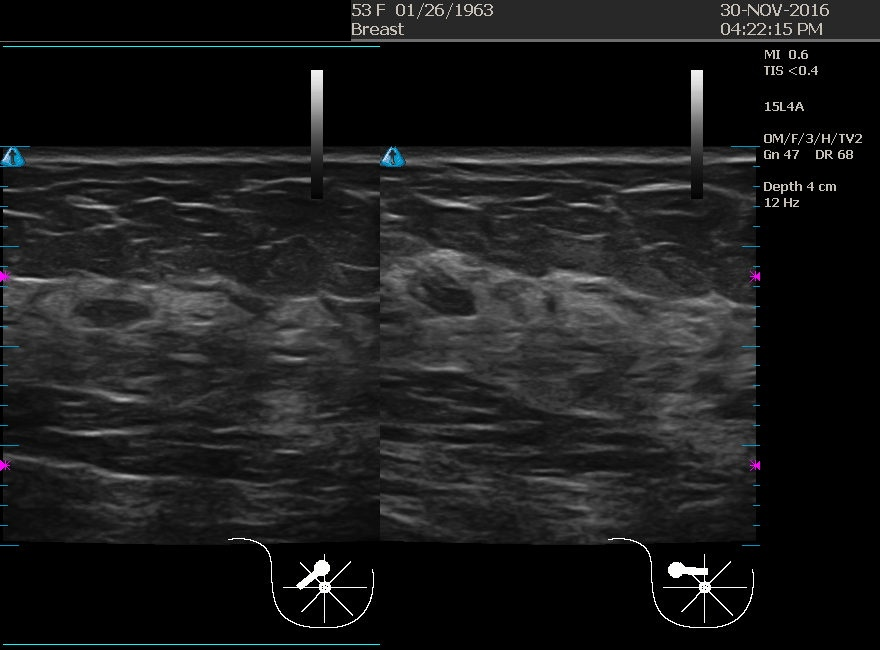BIRADS_2: (38, 211, 230, 403), (383, 204, 575, 396)
